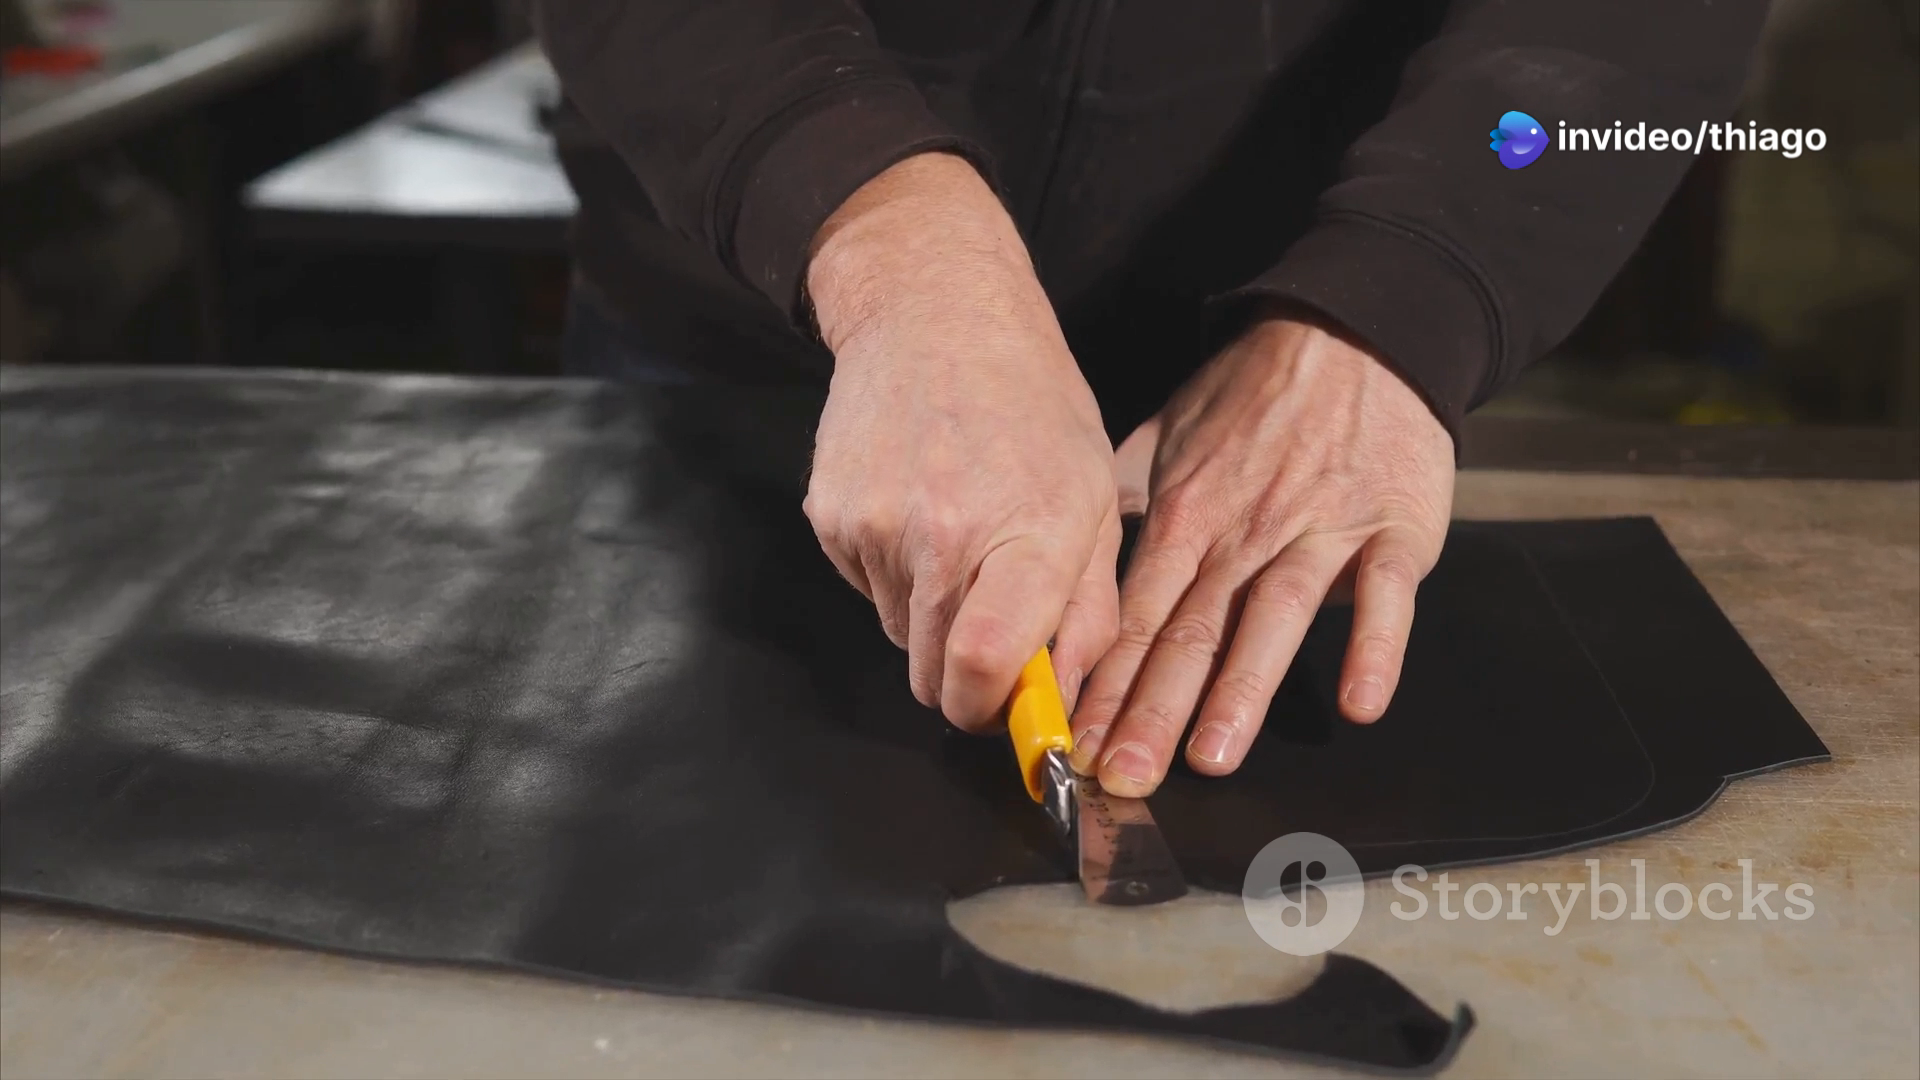cortante: (1044, 742, 1084, 881)
